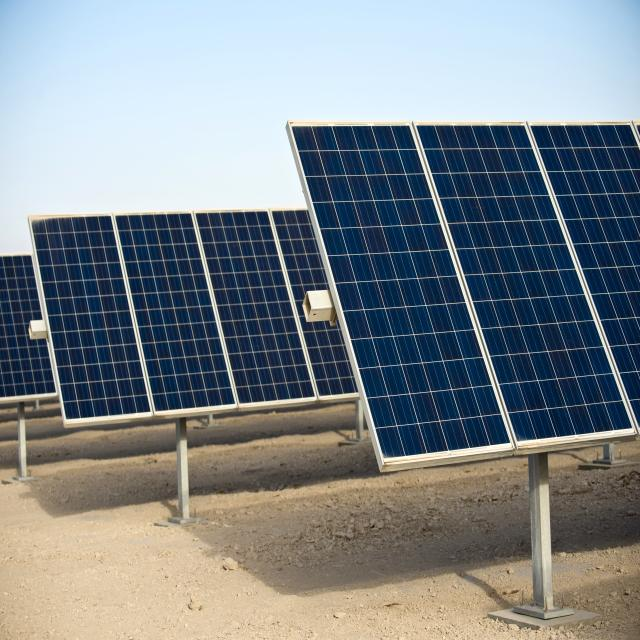crack: (402, 114, 640, 510), (286, 129, 520, 504), (101, 208, 246, 458), (184, 198, 326, 443), (537, 121, 640, 409), (26, 225, 152, 450)
